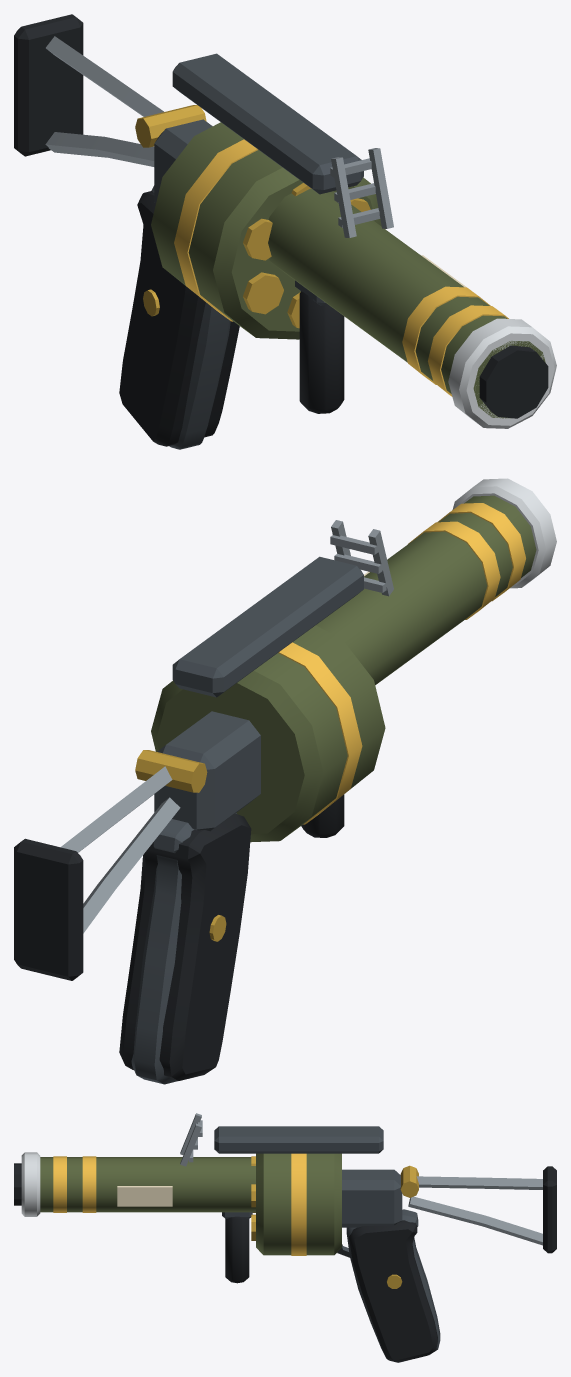
The model's file is Weapon_GrenadeLauncher.fbx.
The picture shows the model from 3 angles, top to bottom: view 1: azimuth 30°, elevation 25°; view 2: azimuth 150°, elevation 25°; view 3: azimuth 270°, elevation 25°; orthographic projection. The views are drawn at different scales.
Parts seen in each view (by area): view 1: Launcher; view 2: Launcher; view 3: Launcher.
Part boxes in pixels (left/top/right/bottom): Launcher: left=14, top=14, right=556, bottom=449; Launcher: left=14, top=478, right=556, bottom=1084; Launcher: left=14, top=1113, right=556, bottom=1362.
Size of the model in its own units: 0.75 by 1.72 by 3.52.
